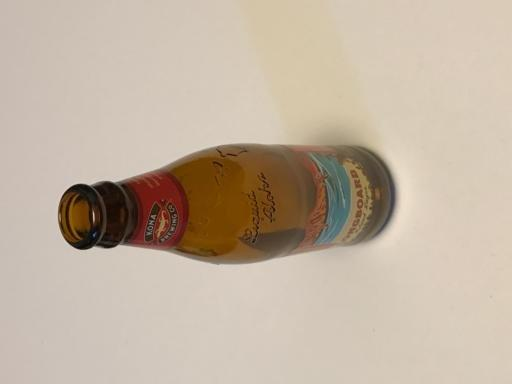botolkaca: (57, 145, 396, 266)
